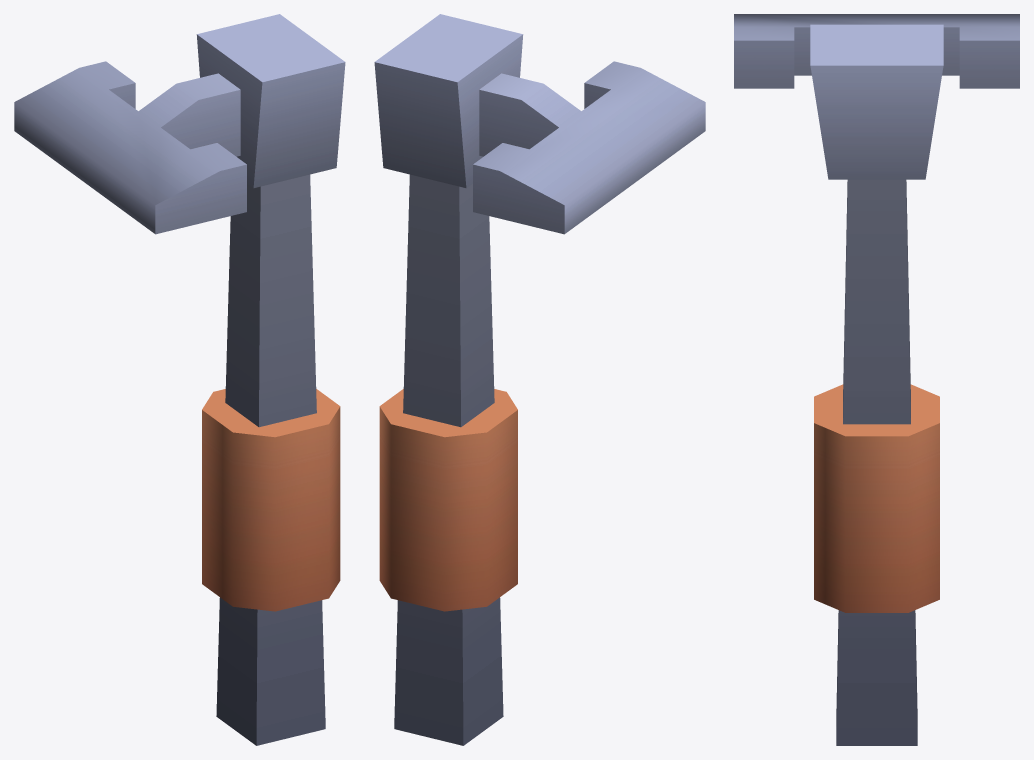
Rendered from kenney-survival-tool-hoe-upgraded.glb.
3 renders of one model, left to right at view 1: azimuth 30°, elevation 25°; view 2: azimuth 150°, elevation 25°; view 3: azimuth 270°, elevation 25°, orthographic.
Parts seen in each view (by area): view 1: tool-hoe-upgraded; view 2: tool-hoe-upgraded; view 3: tool-hoe-upgraded.
Part boxes in pixels (x1,y1,x2,y2): tool-hoe-upgraded: [14, 14, 345, 745]; tool-hoe-upgraded: [374, 14, 705, 745]; tool-hoe-upgraded: [734, 14, 1019, 745].
Size of the model in its own units: 0.0893 by 0.24 by 0.0909.
1 material, 1 textured.
